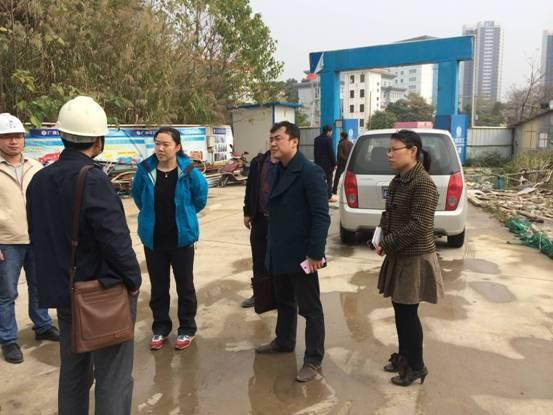helmet: (57, 97, 111, 141), (1, 114, 27, 138)
